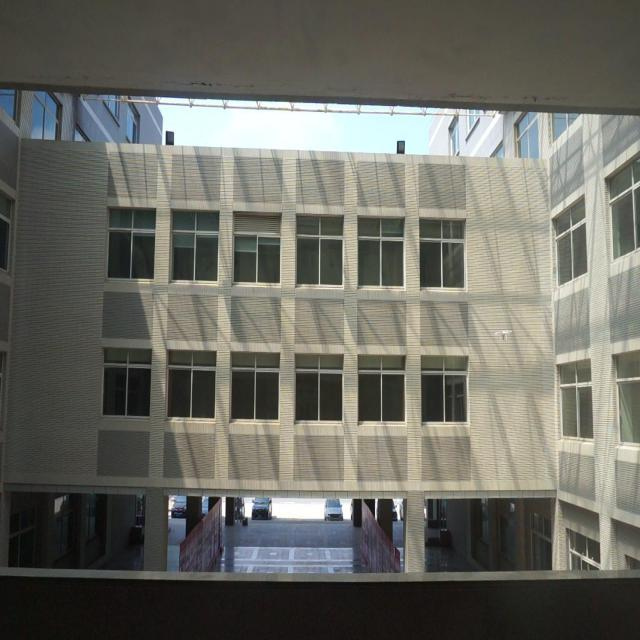UAV: (494, 330, 512, 341)
